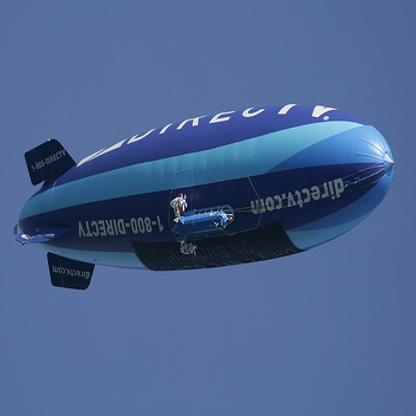Airship: (4, 98, 397, 294)
